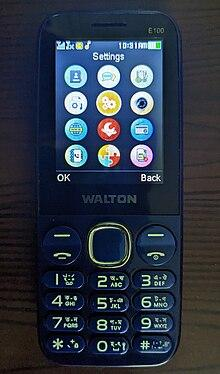Phone: (36, 12, 180, 366)
